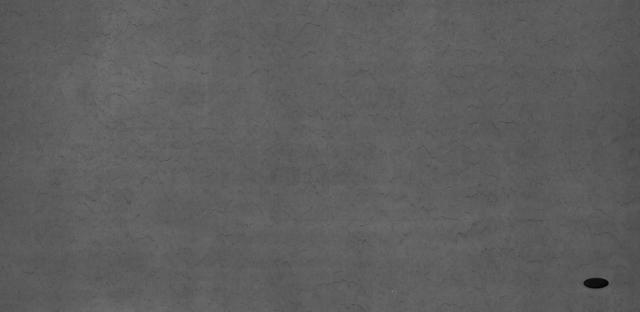punching_hole: (577, 274, 611, 294)
silk_spot: (22, 16, 568, 268)
